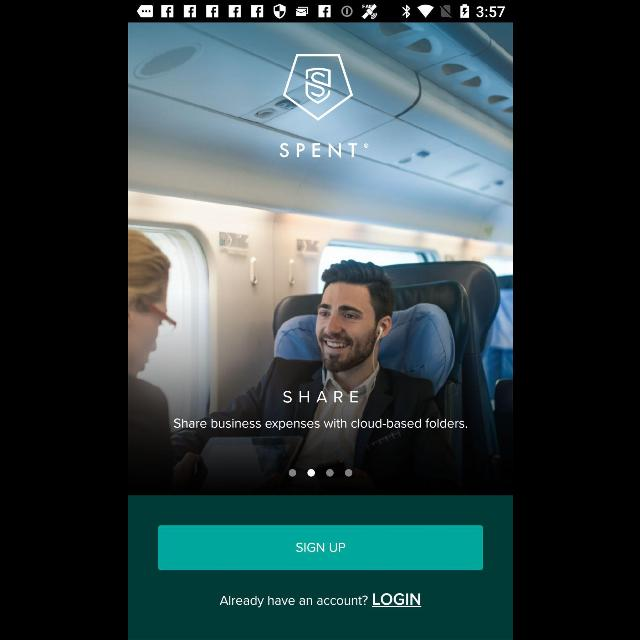image: (128, 23, 512, 495), (282, 54, 354, 122)
pageindicator: (286, 469, 352, 477)
text: (172, 418, 468, 430), (219, 592, 421, 608), (278, 142, 369, 160), (281, 391, 357, 404)
textbutton: (157, 525, 483, 571)
uppertaskbar: (128, 1, 512, 23)
